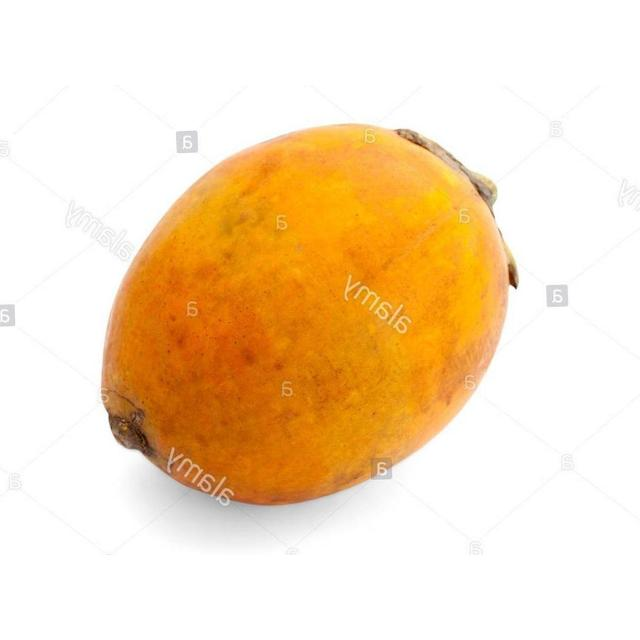good: (98, 123, 517, 509)
